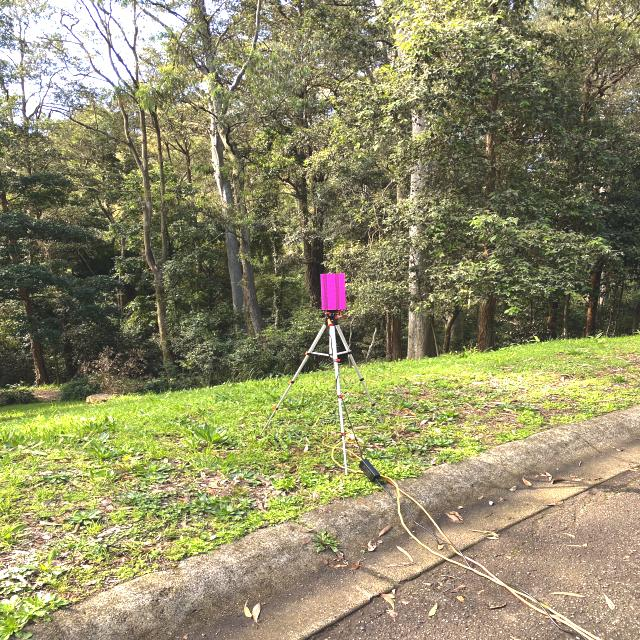matrix: (316, 270, 350, 314)
